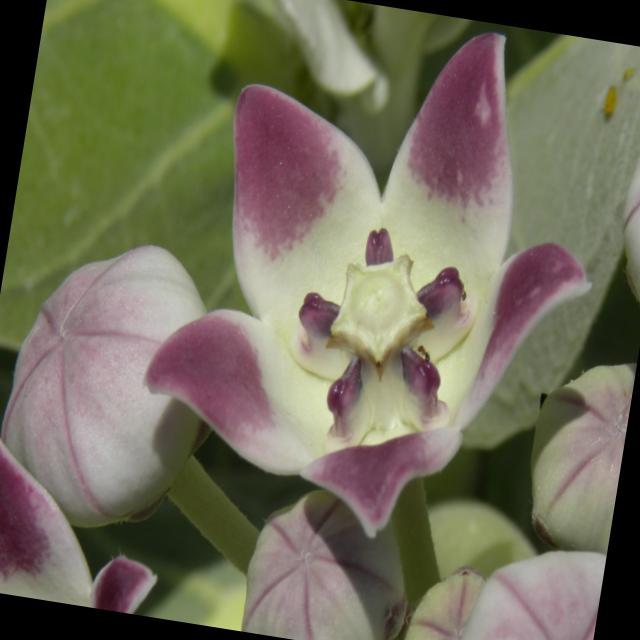Poisonous-Calatropis: (127, 0, 633, 578), (0, 213, 300, 631), (380, 314, 639, 640)
